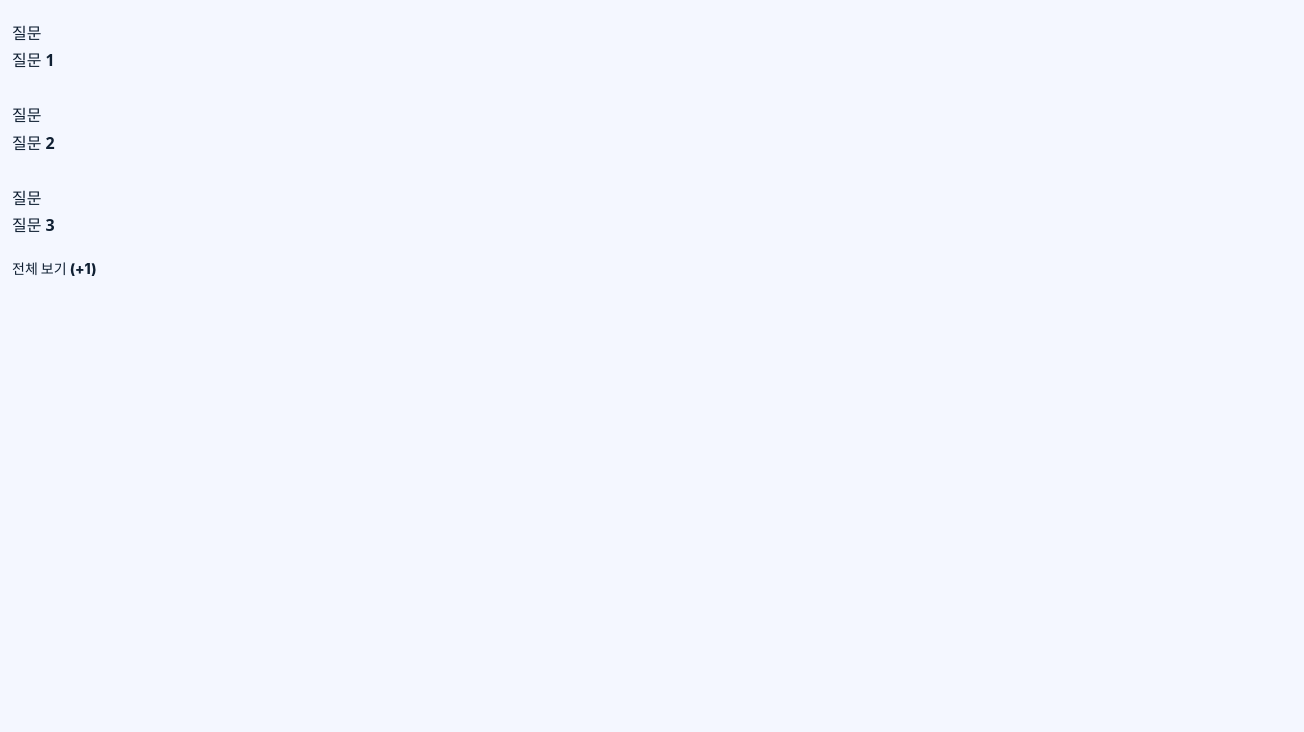
QuestionList › expands details in the selected question card and toggles the full list
Expected: the text "질문 4" is not shown
Expected: the text "답변 1" is not shown
Click the button "질문 질문 1".
click(33, 60)  # box left=12, top=12, right=1292, bottom=84
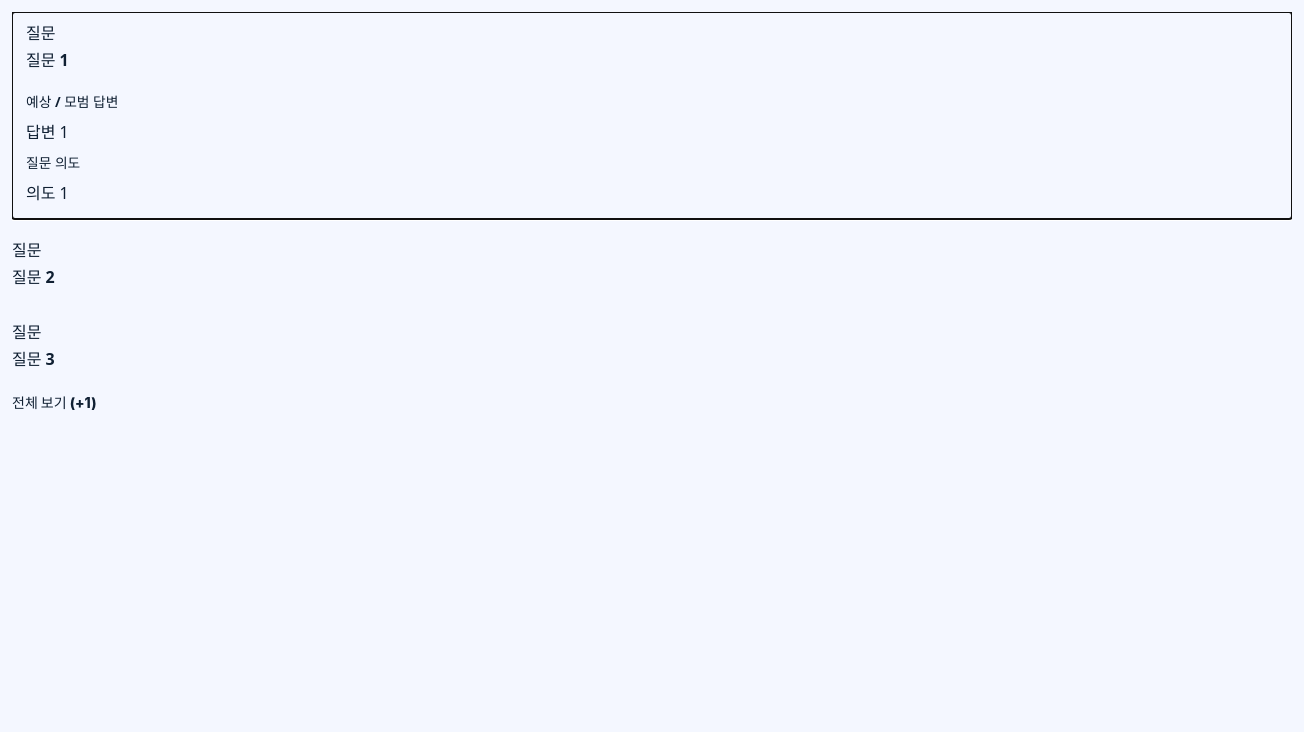
Expected: the text "답변 1" is shown, left=26, top=121, right=69, bottom=143
Expected: the text "의도 1" is shown, left=26, top=182, right=69, bottom=204
Expected: the button "질문 질문 1 예상 / 모범 답변 답변 1 질문 의도 의도 1" is expanded, left=12, top=12, right=1292, bottom=219
Click the button "전체 보기 (+1)".
click(54, 404)  # box left=12, top=393, right=96, bottom=414
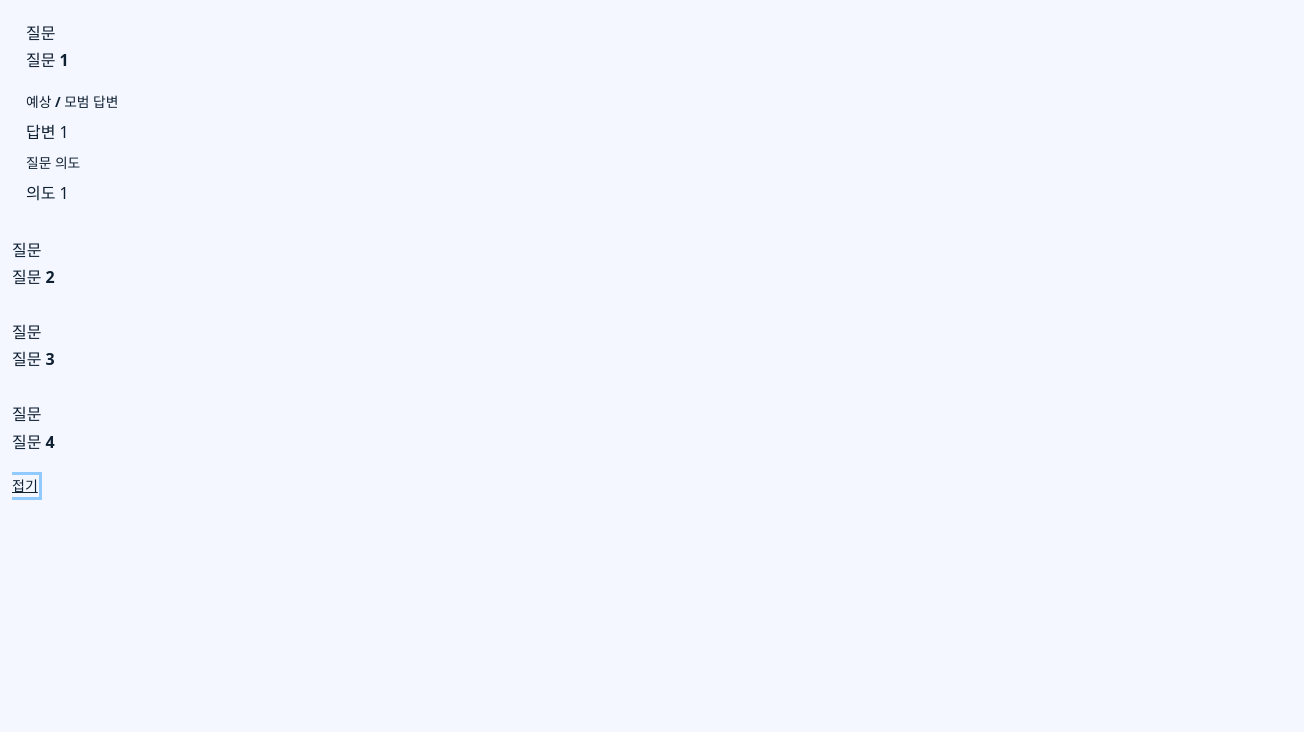
Expected: the text "질문 4" is shown, left=12, top=431, right=55, bottom=453
